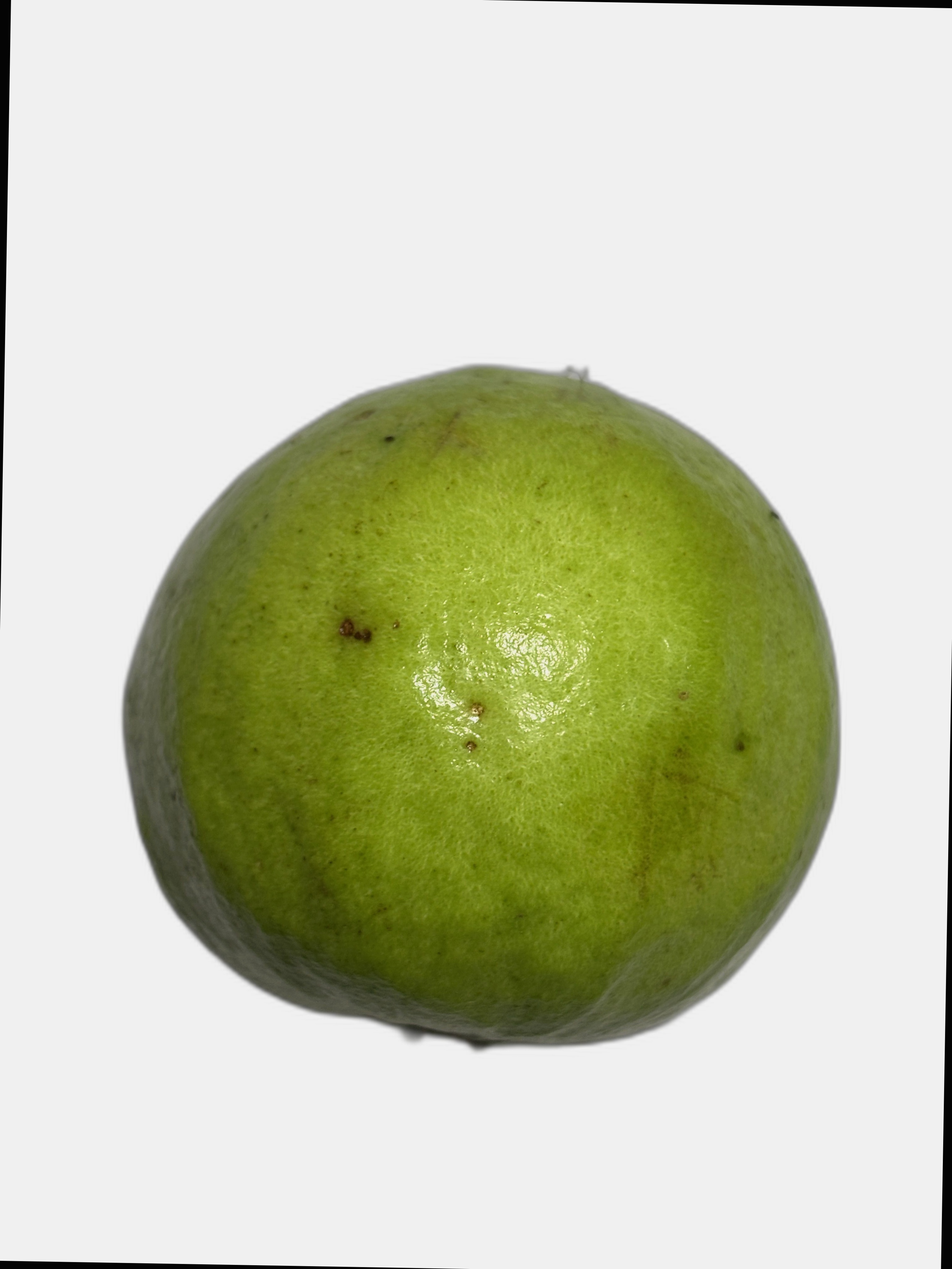guava: (59, 111, 881, 1152)
